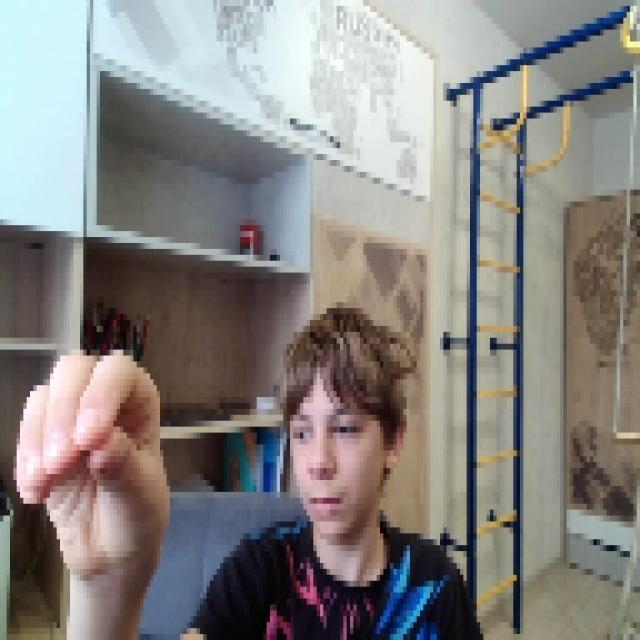left_click: (10, 338, 167, 575)
